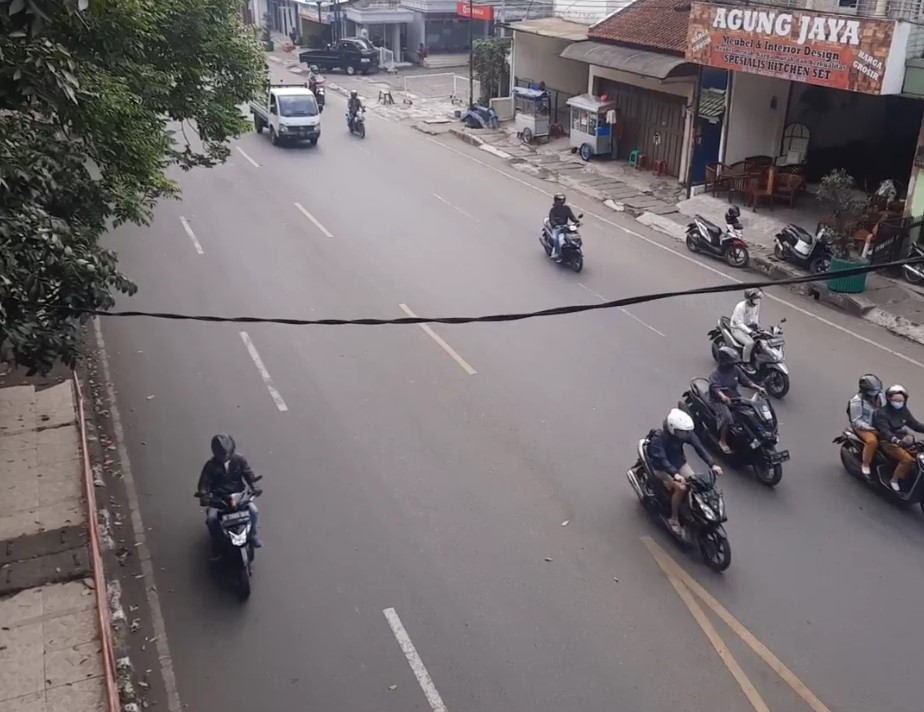mobil: (272, 93, 321, 146)
motor: (180, 434, 280, 610), (672, 351, 790, 492), (630, 408, 729, 574), (839, 366, 924, 523), (709, 283, 791, 398), (541, 191, 586, 273), (344, 88, 367, 143)
